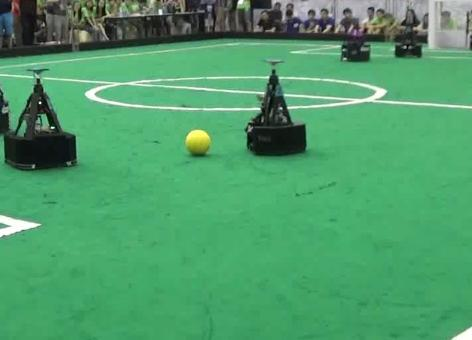robot: (2, 64, 85, 171), (240, 53, 309, 156)
